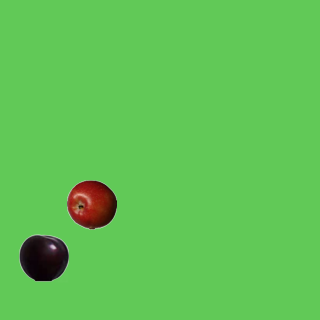Apple Braeburn: (66, 179, 116, 229)
Cherry Wax Black: (18, 232, 68, 282)
